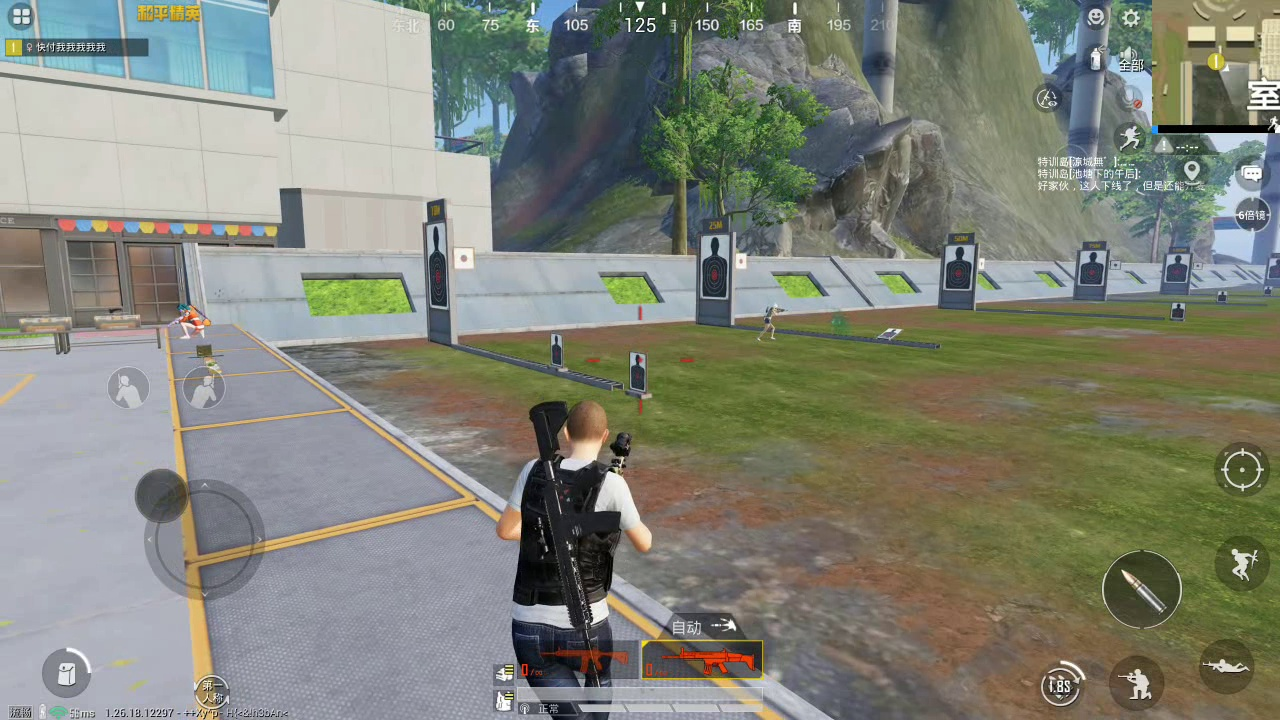enemy: (175, 301, 206, 337), (761, 304, 782, 340)
